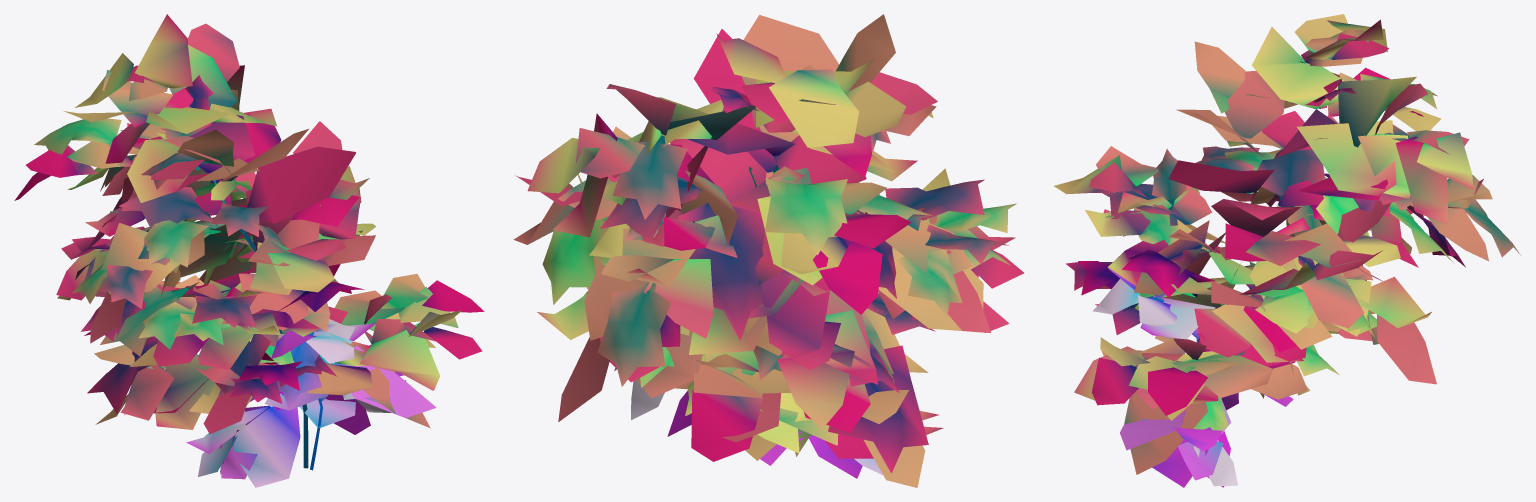
File: Elderberry_wfzobb2ia_Mid_wfzobb2ia_VarA_LOD2.fbx
3 renders of one model, left to right at view 1: azimuth 30°, elevation 25°; view 2: azimuth 150°, elevation 25°; view 3: azimuth 270°, elevation 25°, orthographic. The views are drawn at different scales.
Parts seen in each view (by area): view 1: _5fc8_VarA_LOD5; view 2: _5fc8_VarA_LOD5; view 3: _5fc8_VarA_LOD5.
Part boxes in pixels (x1=…): _5fc8_VarA_LOD5: x1=14, y1=14, x2=484, y2=487; _5fc8_VarA_LOD5: x1=513, y1=14, x2=1024, y2=487; _5fc8_VarA_LOD5: x1=1054, y1=14, x2=1520, y2=487.
Size of the model in its own units: 111 by 119 by 120.
